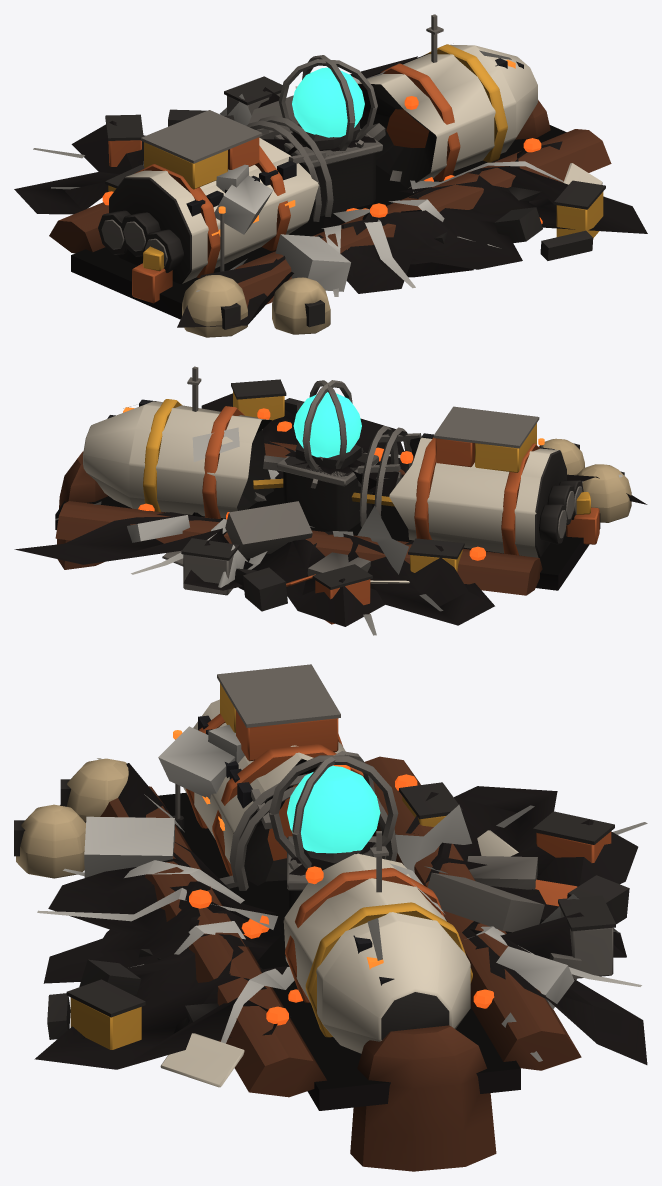
File: crash-site-khepri.glb
The picture shows the model from 3 angles, top to bottom: view 1: azimuth 30°, elevation 25°; view 2: azimuth 150°, elevation 25°; view 3: azimuth 270°, elevation 25°; orthographic projection. The views are drawn at different scales.
Visible parts, largest first — view 1: site_crash_site_khepri_body, site_crash_site_khepri_ruin, site_crash_site_khepri_core; view 2: site_crash_site_khepri_body, site_crash_site_khepri_ruin, site_crash_site_khepri_core; view 3: site_crash_site_khepri_body, site_crash_site_khepri_ruin, site_crash_site_khepri_core.
Boxes of the visible parts, <box> form: site_crash_site_khepri_body: <box>49,14,611,337</box>; site_crash_site_khepri_ruin: <box>14,50,647,327</box>; site_crash_site_khepri_core: <box>278,55,377,150</box>; site_crash_site_khepri_body: <box>55,366,631,624</box>; site_crash_site_khepri_ruin: <box>14,393,647,635</box>; site_crash_site_khepri_core: <box>293,380,361,469</box>; site_crash_site_khepri_body: <box>14,664,615,1171</box>; site_crash_site_khepri_ruin: <box>34,724,647,1069</box>; site_crash_site_khepri_core: <box>269,751,398,868</box>.
Bounding box in the file's own units: 5.72 × 2.23 × 4.88.
